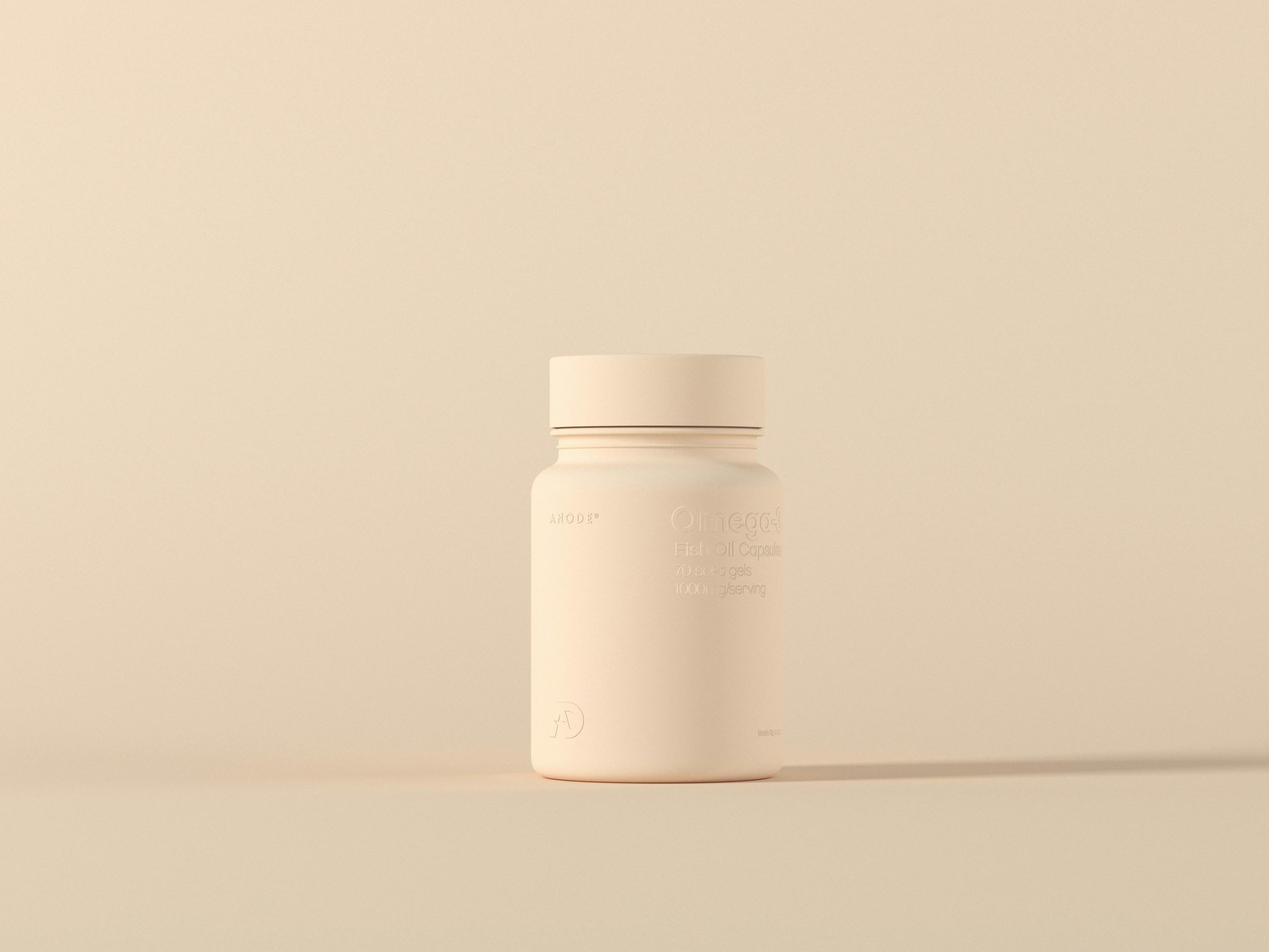Bottle-Detection: (478, 258, 863, 865)
